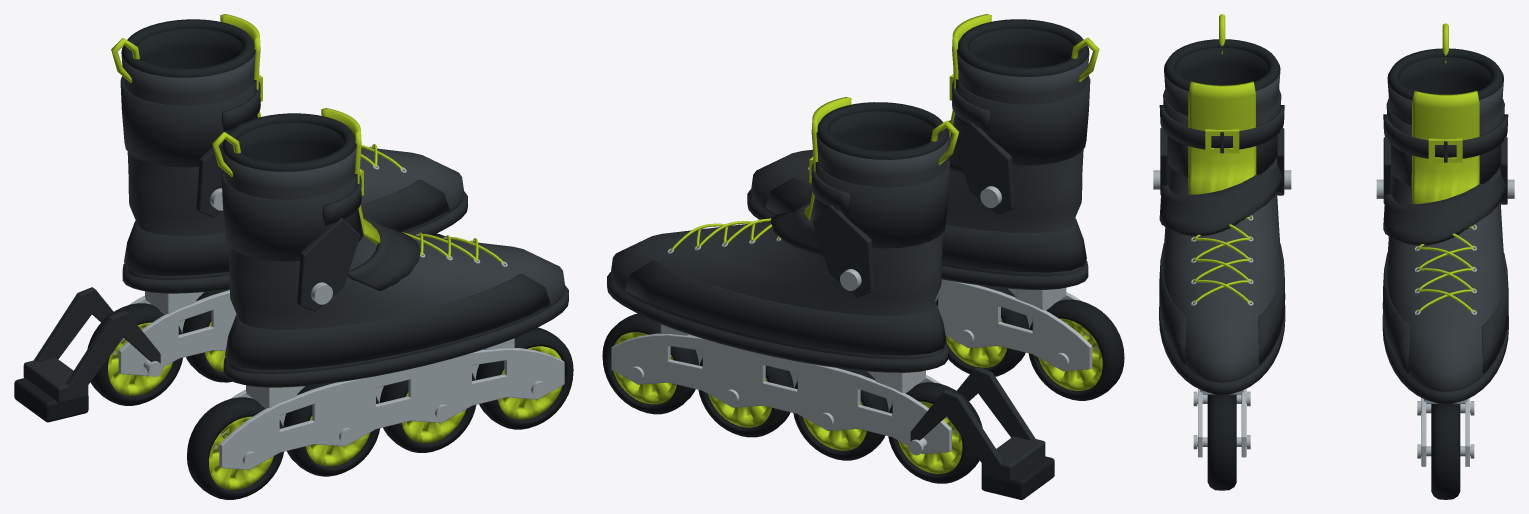
3 views of the same model, side by side, from view 1: azimuth 30°, elevation 25°; view 2: azimuth 150°, elevation 25°; view 3: azimuth 270°, elevation 25° (orthographic). The views are drawn at different scales.
Visible parts, largest first — view 1: L Hollow textile boot with lining, R Hollow textile boot with lining, L Perforated frame rail -0.018, L Rear molded heel cradle, R Rear molded heel cradle, L Raised C shaped ankle cuff, R Raised C shaped ankle cuff, L Molded boot sole, R Perforated frame rail -0.018, L Wheel1 rounded tread, L Cuff side pivot arm -0.048, R Padded collar welt (+24 smaller); view 2: R Hollow textile boot with lining, L Hollow textile boot with lining, R Perforated frame rail 0.018, R Rear molded heel cradle, L Perforated frame rail 0.018, L Rear molded heel cradle, R Raised C shaped ankle cuff, L Raised C shaped ankle cuff, R Molded boot sole, L Wheel1 rounded tread, R Cuff side pivot arm 0.048, L Cuff side pivot arm 0.048 (+25 smaller); view 3: L Hollow textile boot with lining, R Hollow textile boot with lining, L Padded front tongue, R Padded front tongue, L Diagonal instep retention strap, R Diagonal instep retention strap, R Rear molded heel cradle, L Rear molded heel cradle, L Wheel4 rounded tread, R Wheel4 rounded tread, R Upper cuff ratchet strap, L Upper cuff ratchet strap (+14 smaller).
Part boxes in pixels (bbox=[...]): L Hollow textile boot with lining: bbox=[222, 122, 565, 373]; R Hollow textile boot with lining: bbox=[121, 28, 464, 279]; L Perforated frame rail -0.018: bbox=[219, 348, 564, 469]; L Rear molded heel cradle: bbox=[225, 274, 550, 369]; R Rear molded heel cradle: bbox=[124, 180, 449, 275]; L Raised C shaped ankle cuff: bbox=[221, 170, 363, 261]; R Raised C shaped ankle cuff: bbox=[120, 76, 257, 167]; L Molded boot sole: bbox=[223, 285, 568, 387]; R Perforated frame rail -0.018: bbox=[118, 290, 236, 375]; L Wheel1 rounded tread: bbox=[187, 397, 283, 499]; L Cuff side pivot arm -0.048: bbox=[297, 217, 360, 311]; R Padded collar welt: bbox=[121, 19, 255, 77]; R Hollow textile boot with lining: bbox=[610, 111, 948, 359]; L Hollow textile boot with lining: bbox=[751, 28, 1089, 276]; R Perforated frame rail 0.018: bbox=[611, 333, 951, 453]; R Rear molded heel cradle: bbox=[625, 260, 946, 355]; L Perforated frame rail 0.018: bbox=[937, 279, 1092, 371]; L Rear molded heel cradle: bbox=[765, 177, 1086, 272]; R Raised C shaped ankle cuff: bbox=[810, 158, 949, 248]; L Raised C shaped ankle cuff: bbox=[950, 75, 1090, 165]; R Molded boot sole: bbox=[607, 272, 947, 372]; L Wheel1 rounded tread: bbox=[1028, 299, 1124, 400]; R Cuff side pivot arm 0.048: bbox=[813, 205, 874, 297]; L Cuff side pivot arm 0.048: bbox=[955, 122, 1015, 214]; L Hollow textile boot with lining: bbox=[1162, 47, 1281, 382]; R Hollow textile boot with lining: bbox=[1386, 57, 1505, 391]; L Padded front tongue: bbox=[1188, 81, 1256, 194]; R Padded front tongue: bbox=[1411, 90, 1479, 203]; L Diagonal instep retention strap: bbox=[1159, 157, 1282, 236]; R Diagonal instep retention strap: bbox=[1383, 167, 1506, 245]; R Rear molded heel cradle: bbox=[1382, 252, 1508, 373]; L Rear molded heel cradle: bbox=[1159, 243, 1285, 363]; L Wheel4 rounded tread: bbox=[1207, 394, 1236, 490]; R Wheel4 rounded tread: bbox=[1431, 403, 1460, 499]; R Upper cuff ratchet strap: bbox=[1383, 114, 1508, 158]; L Upper cuff ratchet strap: bbox=[1159, 105, 1284, 149].
Bounding box in the file's own units: 38.4 × 30.67 × 29.76.
